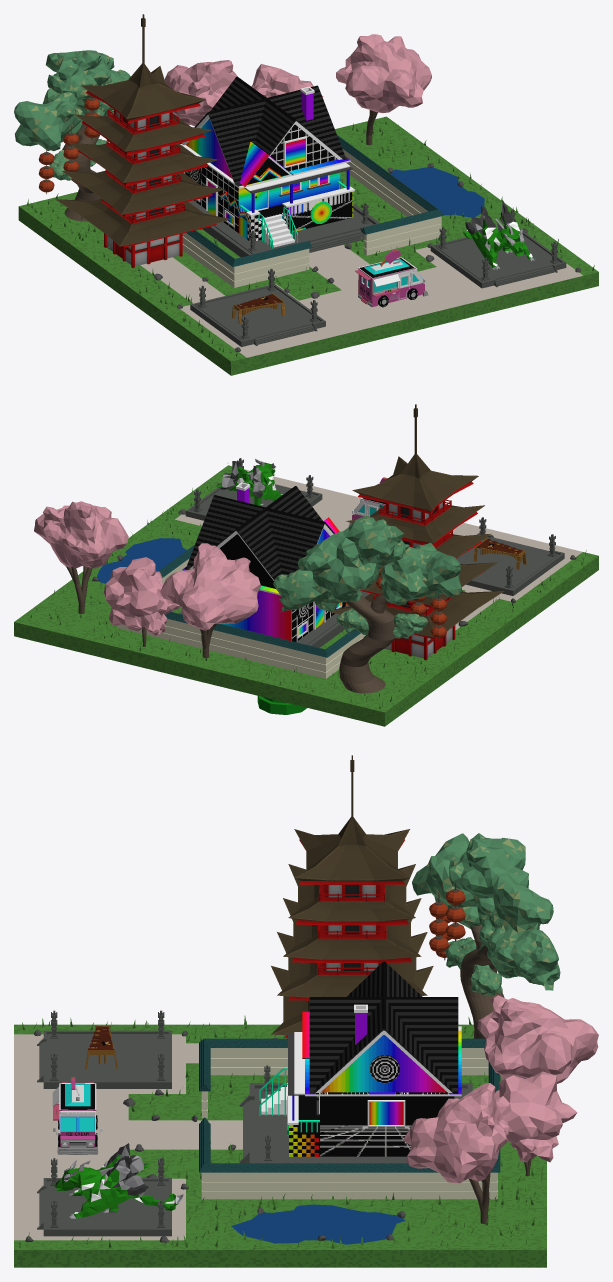
3 views of the same model, one above another, from view 1: azimuth 30°, elevation 25°; view 2: azimuth 150°, elevation 25°; view 3: azimuth 270°, elevation 25° (orthographic). The views are drawn at different scales.
Visible parts, largest first — view 1: Cube.005, Cube.1320, VEHICLES_ICE_CREAM_TRUCK, ANIMAL_DRAGON, OBJRANDOM_MARIMBA; view 2: Cube.005, Cube.1320, ANIMAL_DRAGON, OBJRANDOM_MARIMBA, UNDERGROUND_PIPES, VEHICLES_ICE_CREAM_TRUCK; view 3: Cube.005, Cube.1320, ANIMAL_DRAGON, VEHICLES_ICE_CREAM_TRUCK, OBJRANDOM_MARIMBA.
Boxes of the visible parts, left/top/right/bottom form: Cube.005: left=14, top=14, right=598, bottom=375; Cube.1320: left=179, top=76, right=354, bottom=248; VEHICLES_ICE_CREAM_TRUCK: left=355, top=249, right=428, bottom=307; ANIMAL_DRAGON: left=464, top=201, right=536, bottom=269; OBJRANDOM_MARIMBA: left=232, top=293, right=285, bottom=323; Cube.005: left=14, top=404, right=598, bottom=726; Cube.1320: left=182, top=482, right=347, bottom=642; ANIMAL_DRAGON: left=216, top=459, right=282, bottom=506; OBJRANDOM_MARIMBA: left=473, top=538, right=526, bottom=569; UNDERGROUND_PIPES: left=257, top=696, right=306, bottom=714; VEHICLES_ICE_CREAM_TRUCK: left=348, top=477, right=387, bottom=526; Cube.005: left=14, top=755, right=598, bottom=1267; Cube.1320: left=259, top=961, right=461, bottom=1156; ANIMAL_DRAGON: left=54, top=1143, right=183, bottom=1218; VEHICLES_ICE_CREAM_TRUCK: left=52, top=1077, right=102, bottom=1154; OBJRANDOM_MARIMBA: left=85, top=1025, right=117, bottom=1068.
Bounding box in the file's own units: 4528 × 3273 × 4389.
46 materials, 7 textured.
